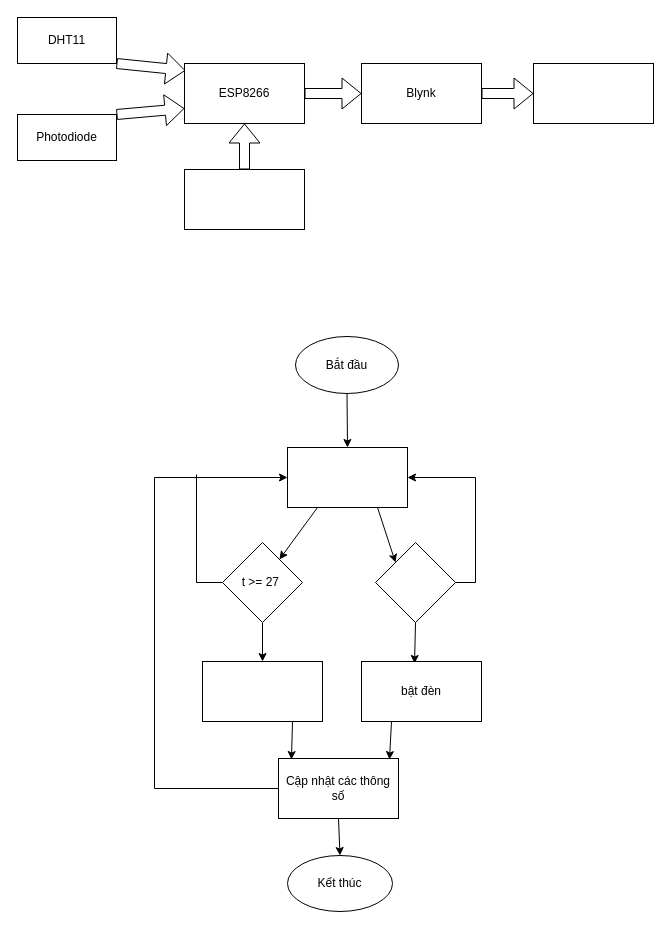
This 671x929 diagram has some shape labels left out. The centre of each missing label's shape, as x and y in pixels:
"App Blynk" belongs at point 593,93.
"bật quạt" belongs at point 262,691.
"den == 0" belongs at point 415,582.
"Nguồn" belongs at point 244,199.
"Đọc các giá trị nhiệt độ, ánh sáng" belongs at point 347,477.
